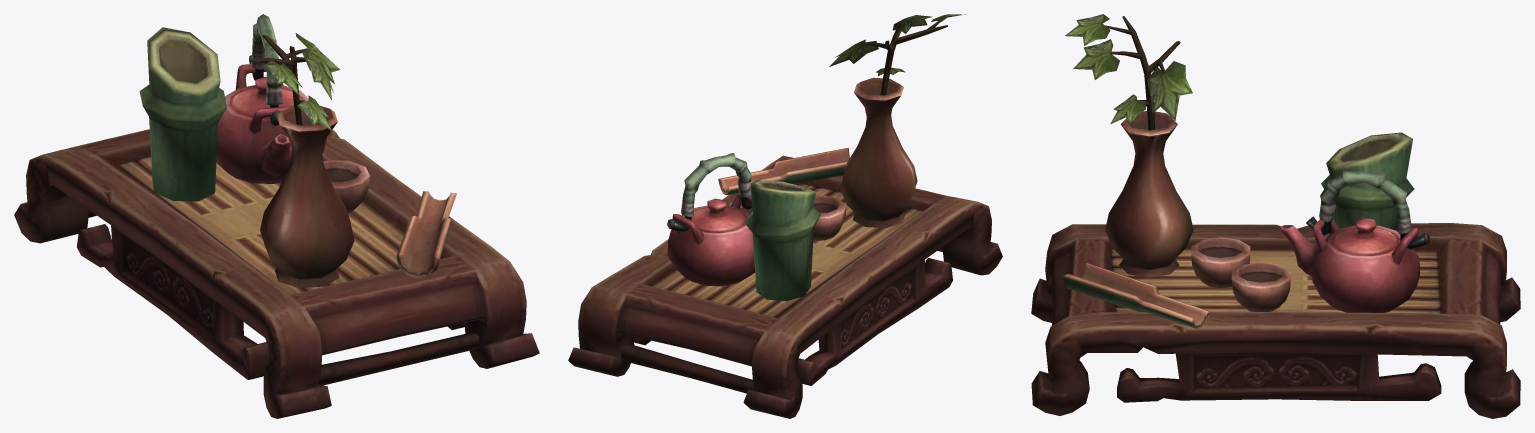
3 views of the same model, side by side, from view 1: azimuth 30°, elevation 25°; view 2: azimuth 150°, elevation 25°; view 3: azimuth 270°, elevation 25° (orthographic). The views are drawn at different scales.
Size of the model in its own units: 0.6078 by 0.7233 by 1.08.
2 materials, 2 textured.
